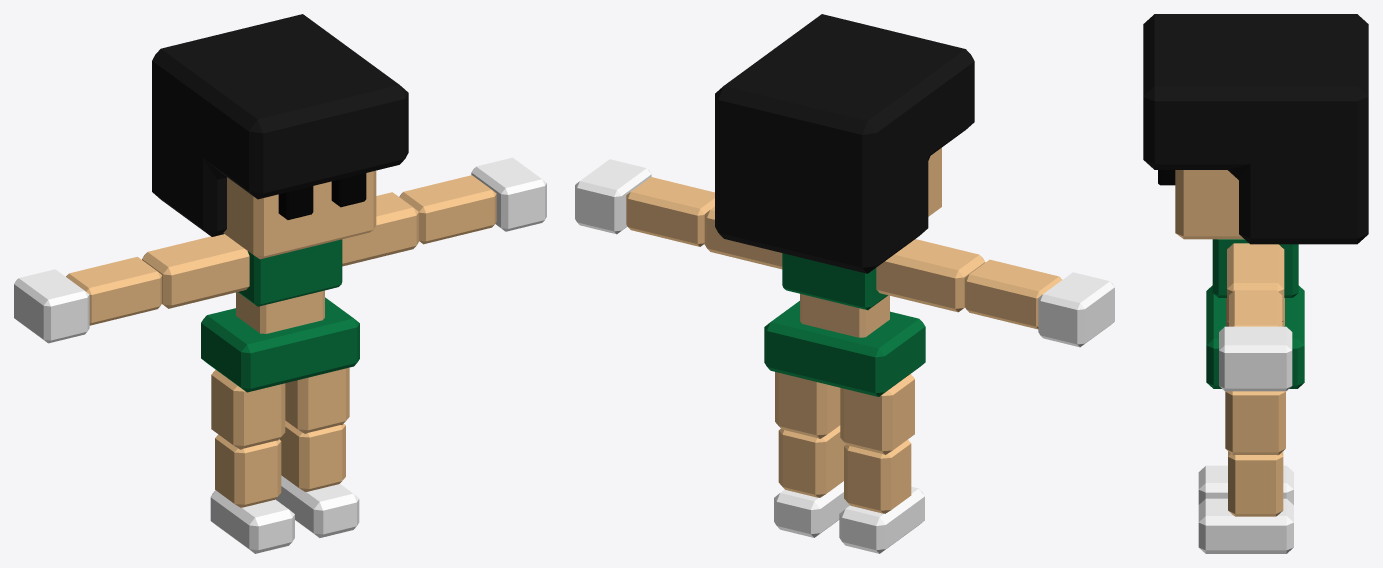
The model's file is jk cha2 test.FBX.
3 renders of one model, left to right at view 1: azimuth 30°, elevation 25°; view 2: azimuth 150°, elevation 25°; view 3: azimuth 270°, elevation 25°, orthographic. The views are drawn at different scales.
Parts seen in each view (by area): view 1: mesh_Base; view 2: mesh_Base; view 3: mesh_Base.
Part boxes in pixels (bbox=[...]): mesh_Base: bbox=[14, 14, 546, 553]; mesh_Base: bbox=[575, 14, 1114, 553]; mesh_Base: bbox=[1143, 14, 1368, 553].
Size of the model in its own units: 248 by 91.93 by 215.
